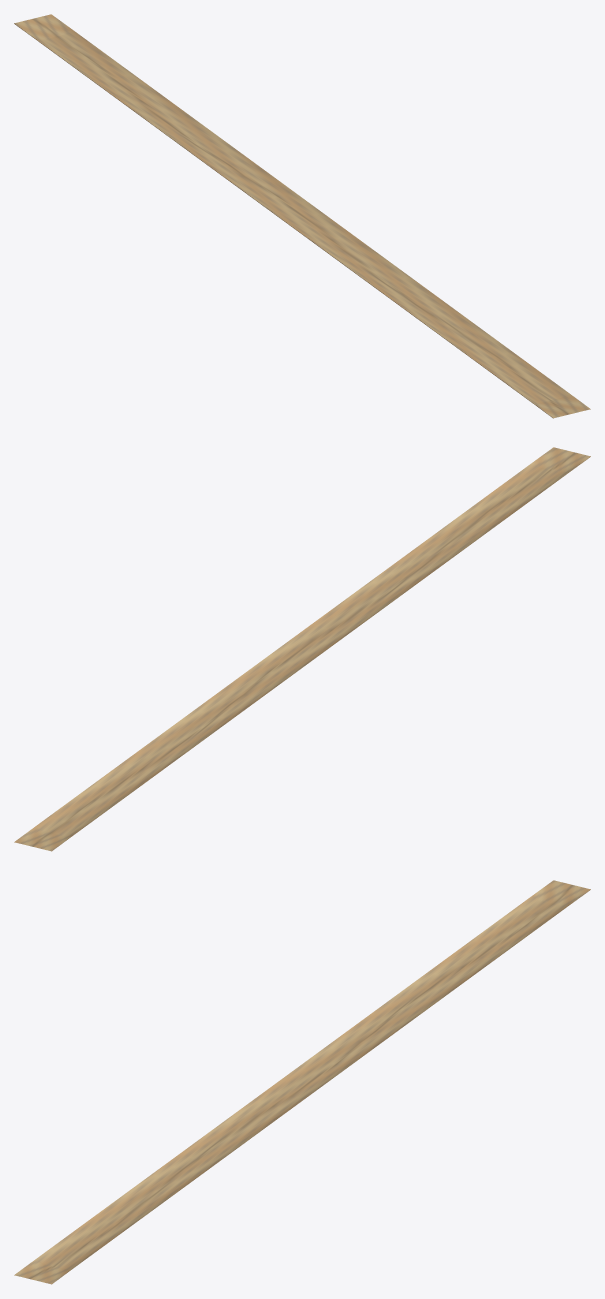
Rendered from dry_wash_1500x4x60.glb.
3 views of the same model, one above another, from view 1: azimuth 30°, elevation 25°; view 2: azimuth 150°, elevation 25°; view 3: azimuth 330°, elevation 25° (orthographic).
Parts seen in each view (by area): view 1: dry_wash_1500x4x60; view 2: dry_wash_1500x4x60; view 3: dry_wash_1500x4x60.
Part boxes in pixels (x1=…): dry_wash_1500x4x60: x1=14, y1=14, x2=590, y2=418; dry_wash_1500x4x60: x1=14, y1=447, x2=590, y2=851; dry_wash_1500x4x60: x1=14, y1=880, x2=590, y2=1284.
Bounding box in the file's own units: 60 × 4.35 × 1500.
